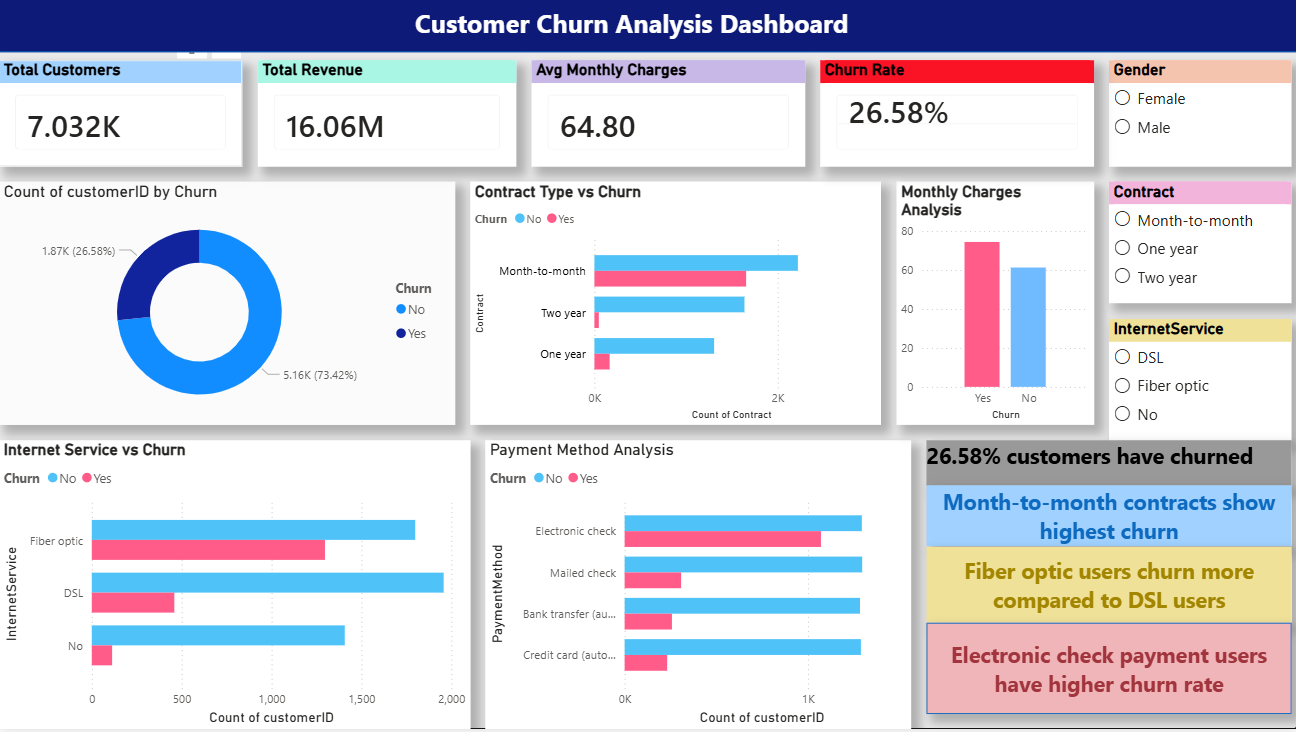

The dashboard page shown, as its layout file describes it:
{"tool":"powerbi","page":{"name":"Page 1","canvas":[1366,768],"ordinal":0},"visuals":[{"type":"cardVisual","title":"Total Customers","fields":{"Data":["CountNonNull(Telco-Customer-Churn csv.customerID)"]},"box":[0,64,256,112],"z":0},{"type":"cardVisual","title":"Total Revenue","fields":{"Data":["Sum(Telco-Customer-Churn csv.TotalCharges)"]},"box":[272,64,272,112],"z":1000},{"type":"cardVisual","title":"Avg Monthly Charges","fields":{"Data":["Avg(Telco-Customer-Churn csv.MonthlyCharges)"]},"box":[560,64,288,112],"z":2000},{"type":"donutChart","fields":{"Category":["Telco-Customer-Churn csv.Churn"],"Y":["CountNonNull(Telco-Customer-Churn csv.customerID)"]},"box":[0,192,480,256],"z":3000},{"type":"clusteredBarChart","title":"Contract Type vs Churn","fields":{"Series":["Telco-Customer-Churn csv.Churn"],"Category":["Telco-Customer-Churn csv.Contract"],"Y":["CountNonNull(Telco-Customer-Churn csv.Contract)"]},"box":[496,192,432,256],"z":4000},{"type":"clusteredBarChart","title":"Internet Service vs Churn","fields":{"Category":["Telco-Customer-Churn csv.InternetService"],"Series":["Telco-Customer-Churn csv.Churn"],"Y":["CountNonNull(Telco-Customer-Churn csv.customerID)"]},"box":[0,464,496,304],"z":5000},{"type":"clusteredBarChart","title":"Payment Method Analysis","fields":{"Category":["Telco-Customer-Churn csv.PaymentMethod"],"Y":["CountNonNull(Telco-Customer-Churn csv.customerID)"],"Series":["Telco-Customer-Churn csv.Churn"]},"box":[512,464,448,304],"z":6000},{"type":"clusteredColumnChart","title":" Monthly Charges Analysis","fields":{"Category":["Telco-Customer-Churn csv.Churn"],"Y":["Avg(Telco-Customer-Churn csv.MonthlyCharges)"]},"box":[944,192,208,256],"z":7000},{"type":"listSlicer","title":"Gender","fields":{"Values":["Telco-Customer-Churn csv.gender"]},"box":[1168,64,192,112],"z":8000},{"type":"listSlicer","fields":{"Values":["Telco-Customer-Churn csv.Contract"]},"box":[1168,192,192,128],"z":9000},{"type":"listSlicer","fields":{"Values":["Telco-Customer-Churn csv.InternetService"]},"box":[1168,336,192,128],"z":10000},{"type":"shape","box":[0,0,1366,56],"z":11000},{"type":"textbox","box":[432.9,2.4,503.8,53.8],"z":12000},{"type":"cardVisual","title":"Churn Rate","fields":{"Data":["Telco-Customer-Churn csv.Churn Rate"]},"box":[864,64,288,112],"z":13000},{"type":"shape","box":[976,464,384,48],"z":14000},{"type":"shape","box":[976,512,384,64],"z":15000},{"type":"shape","box":[976,576,384,80],"z":16000},{"type":"shape","box":[976,656,384,96],"z":17000}]}

Visuals, with their boxes in screenshot pixels (x1, y1, x2, y2), scaled from the page's 1366x768 canvas onto the 1296x732 screenshot:
"Total Customers" cardVisual: region(0, 61, 243, 168)
"Total Revenue" cardVisual: region(258, 61, 516, 168)
"Avg Monthly Charges" cardVisual: region(531, 61, 805, 168)
donutChart - Telco-Customer-Churn csv.Churn x CountNonNull(Telco-Customer-Churn csv.customerID): region(0, 183, 455, 427)
"Contract Type vs Churn" clusteredBarChart: region(471, 183, 880, 427)
"Internet Service vs Churn" clusteredBarChart: region(0, 442, 471, 731)
"Payment Method Analysis" clusteredBarChart: region(486, 442, 911, 731)
" Monthly Charges Analysis" clusteredColumnChart: region(896, 183, 1093, 427)
"Gender" listSlicer: region(1108, 61, 1290, 168)
listSlicer - Telco-Customer-Churn csv.Contract: region(1108, 183, 1290, 305)
listSlicer - Telco-Customer-Churn csv.InternetService: region(1108, 320, 1290, 442)
shape: region(0, 0, 1295, 53)
textbox: region(411, 2, 889, 54)
"Churn Rate" cardVisual: region(820, 61, 1093, 168)
shape: region(926, 442, 1290, 488)
shape: region(926, 488, 1290, 549)
shape: region(926, 549, 1290, 625)
shape: region(926, 625, 1290, 717)
